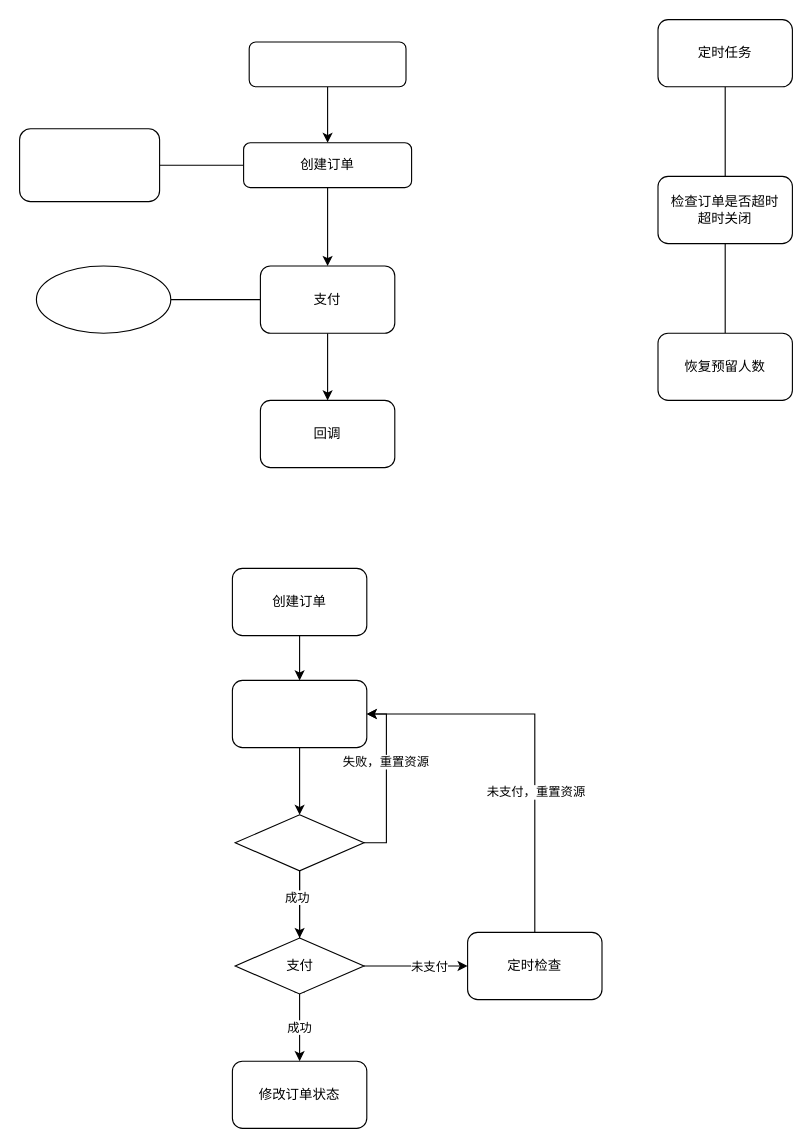
Some shapes in this 812 by 1148 pixel diagram are drawn without their labels. Here are the shapes that lost their labels. From the top down, the box of each, then its label:
(248, 41, 406, 87): 验证课程数据 已下单，人数是否上限。
(18, 128, 160, 202): lesson reserveNum wareOrder待支付 orderRocord wareOrderDetail
(35, 265, 171, 333): 支付宝订单 wareOrder支付中
(231, 679, 367, 748): 预留资源
(234, 814, 364, 871): 下单
